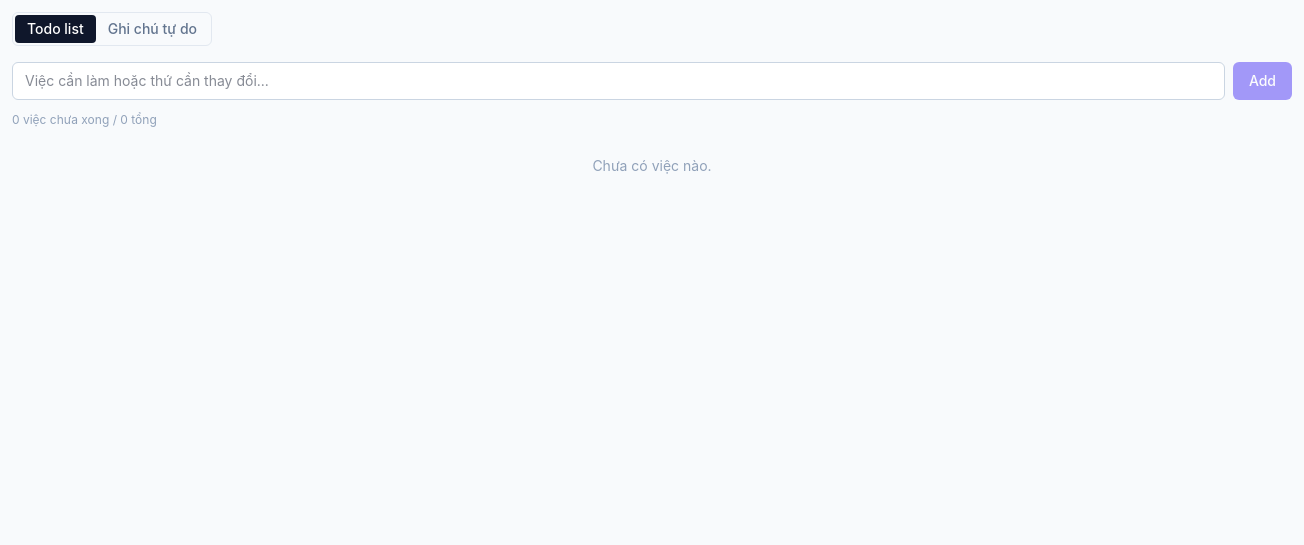
Test: NotesTool saved notes › applies bold formatting to the selected text via the toolbar
Step 1. Click the button "Ghi chú tự do" → click(152, 29), box [96,15,209,43]
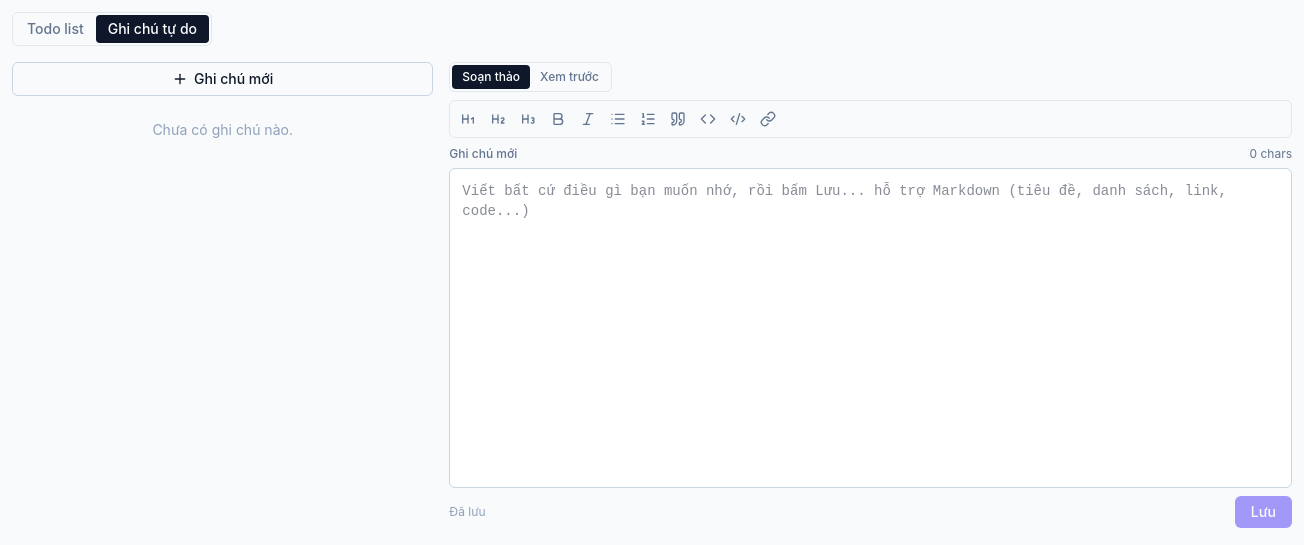
Step 2. Replace the text in the text box with placeholder "Viết bất cứ điều gì bạn muốn nhớ, rồi bấm Lưu... hỗ trợ Markdown (tiêu đề, danh sách, link, code...)" with "hello world" → (871, 328), box [449,168,1292,488]
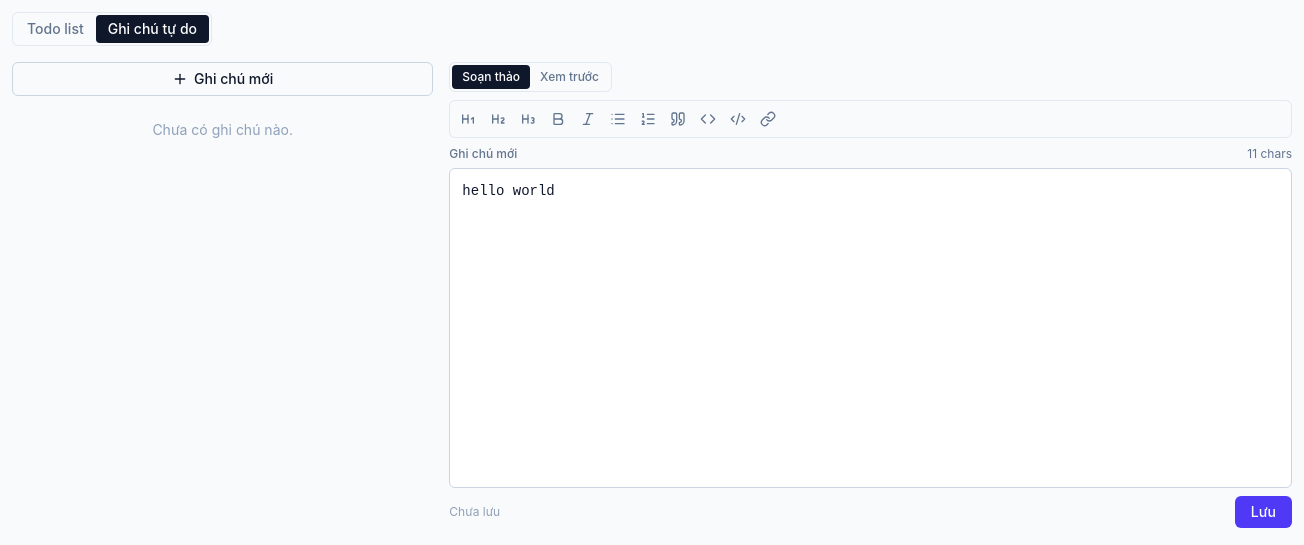
Step 3. Click the button named "In đậm" → click(558, 119), box [544,105,572,133]
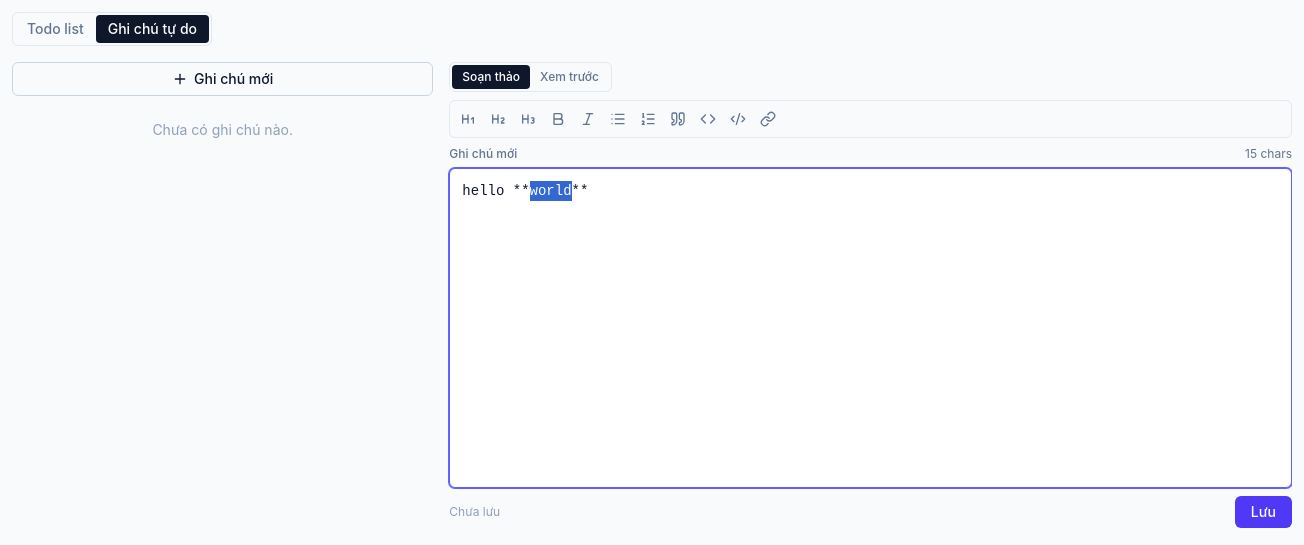
Expected: the text box with placeholder "Viết bất cứ điều gì bạn muốn nhớ, rồi bấm Lưu... hỗ trợ Markdown (tiêu đề, danh sách, link, code...)" holds "hello **world**", [449,168,1292,488]
